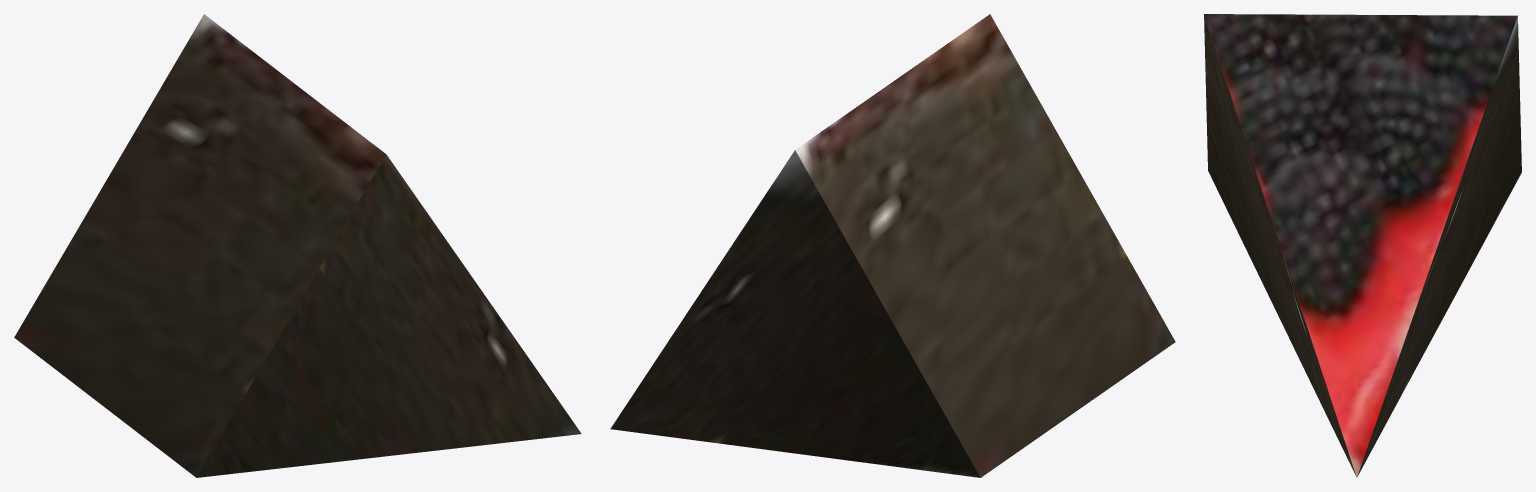
Rendered from pastel.glb.
The picture shows the model from 3 angles, left to right: view 1: azimuth 30°, elevation 25°; view 2: azimuth 150°, elevation 25°; view 3: azimuth 270°, elevation 25°; orthographic projection. The views are drawn at different scales.
Parts seen in each view (by area): view 1: Cono; view 2: Cono; view 3: Cono.
Boxes of the visible parts, box(x1,y1,x2,y2) form: Cono: box(14, 14, 581, 477); Cono: box(610, 14, 1175, 477); Cono: box(1204, 14, 1521, 477).
Size of what is drawn, in the model's own units: 2.06 by 1.73 by 1.43.
1 material, 1 textured.
